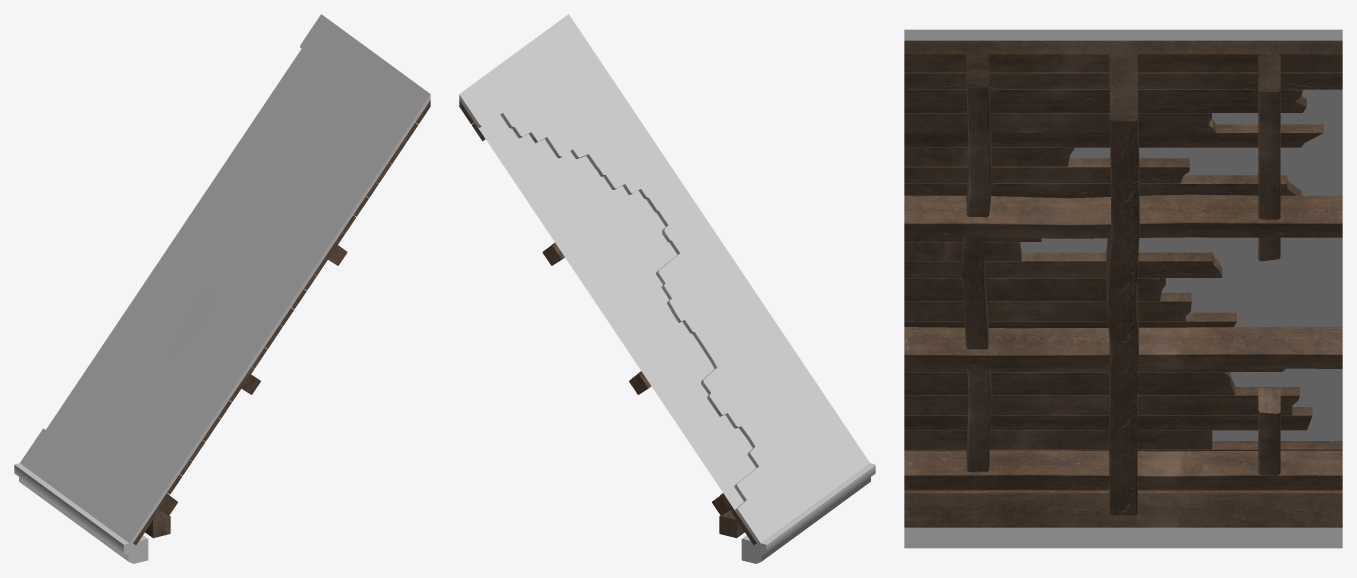
The model's file is SM_Roof_12m_Ruined_03.fbx.
The picture shows the model from 3 angles, left to right: view 1: azimuth 30°, elevation 25°; view 2: azimuth 150°, elevation 25°; view 3: azimuth 270°, elevation 25°; orthographic projection. The views are drawn at different scales.
Visible parts, largest first — view 1: SM_Roof_12m_Ruined_03_LOD0; view 2: SM_Roof_12m_Ruined_03_LOD0; view 3: SM_Roof_12m_Ruined_03_LOD0.
Part boxes in pixels (bbox=[...]): SM_Roof_12m_Ruined_03_LOD0: bbox=[14, 14, 430, 563]; SM_Roof_12m_Ruined_03_LOD0: bbox=[459, 14, 875, 563]; SM_Roof_12m_Ruined_03_LOD0: bbox=[904, 29, 1342, 548].
Size of what is drawn, in the model's own units: 647 by 801 by 400.
